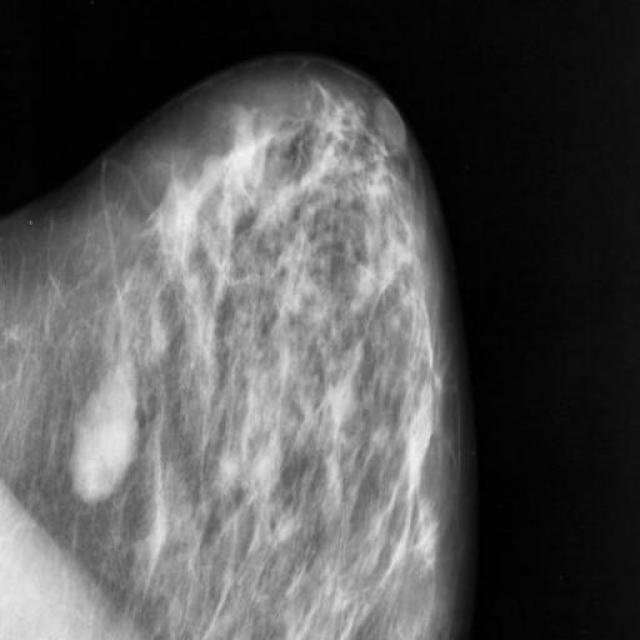cancer: (58, 332, 167, 554)
